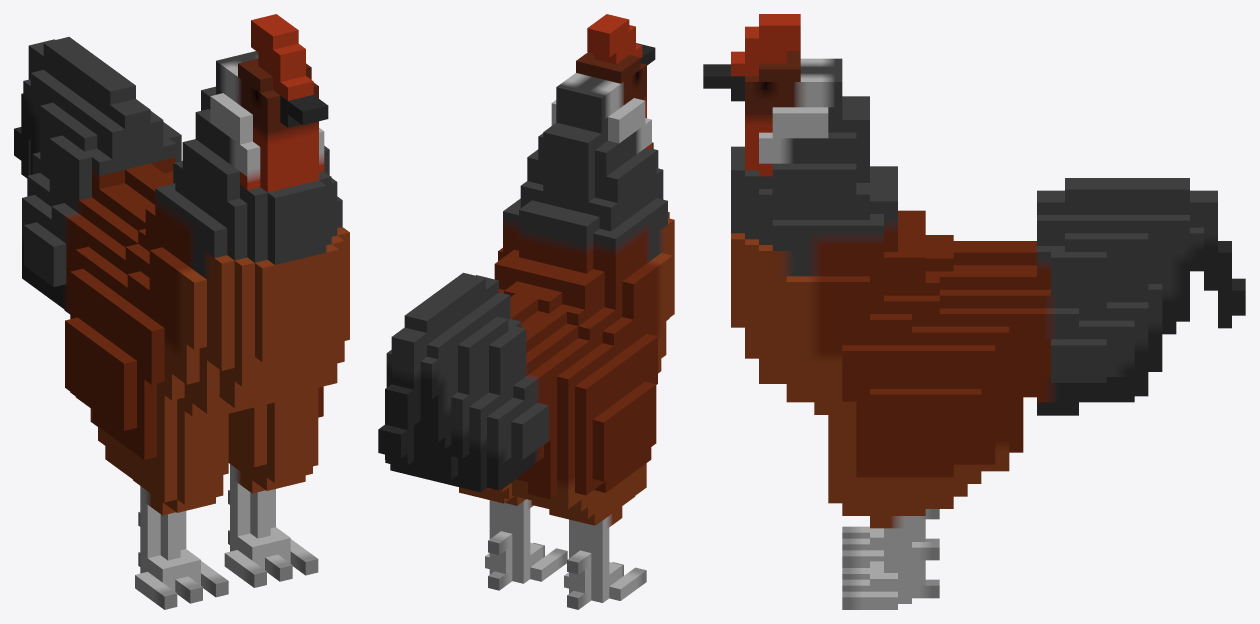
The model's file is rooster.fbx.
3 renders of one model, left to right at view 1: azimuth 30°, elevation 25°; view 2: azimuth 150°, elevation 25°; view 3: azimuth 270°, elevation 25°, orthographic. The views are drawn at different scales.
Parts seen in each view (by area): view 1: rooster; view 2: rooster; view 3: rooster.
Part boxes in pixels (x1,y1,x2,y2): rooster: [14, 14, 349, 609]; rooster: [378, 14, 674, 609]; rooster: [703, 14, 1245, 609].
Size of the model in its own units: 16 by 44 by 39.
Materials: 1 (1 with a texture image).
